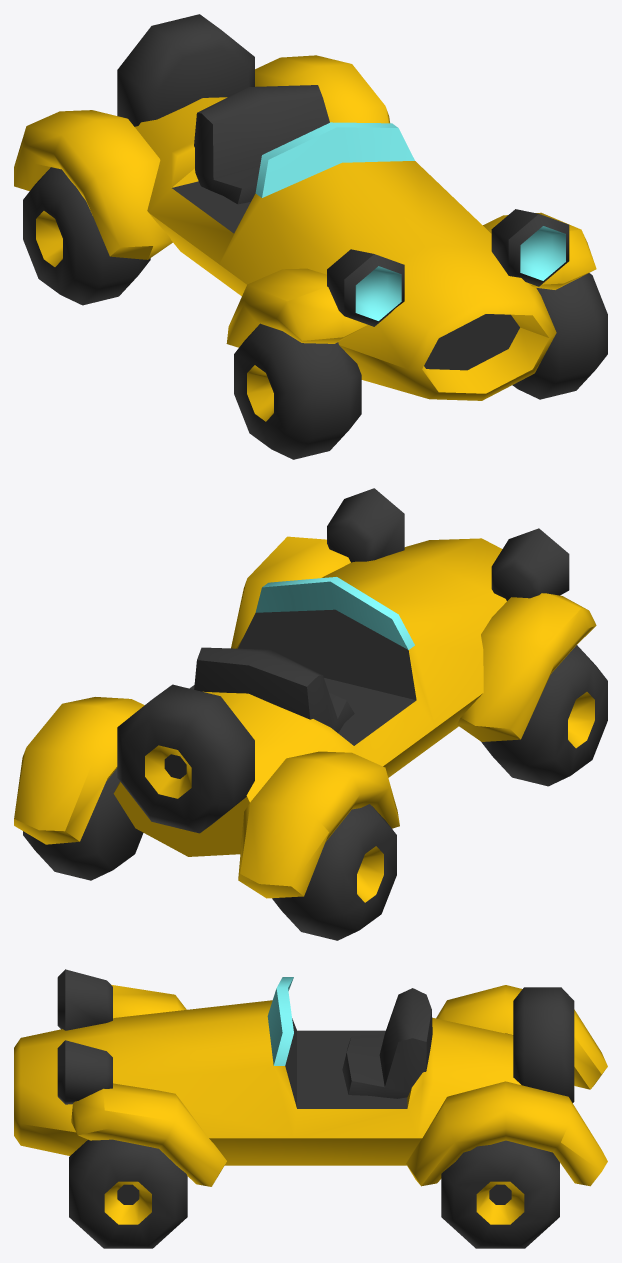
File: car001.fbx
3 renders of one model, top to bottom at view 1: azimuth 30°, elevation 25°; view 2: azimuth 150°, elevation 25°; view 3: azimuth 270°, elevation 25°, orthographic. The views are drawn at different scales.
Parts seen in each view (by area): view 1: obj0, obj1, obj2; view 2: obj0, obj1, obj2; view 3: obj0, obj1, obj2.
Part boxes in pixels (box(x1,y1,x2,y2)): obj0: box(14, 55, 596, 421); obj1: box(23, 14, 607, 459); obj2: box(255, 122, 565, 320); obj0: box(14, 536, 596, 902); obj1: box(23, 488, 607, 940); obj2: box(255, 577, 414, 649); obj0: box(14, 984, 607, 1224); obj1: box(57, 969, 574, 1248); obj2: box(267, 977, 293, 1065).
Size of the model in its own units: 11.01 by 7.42 by 20.
